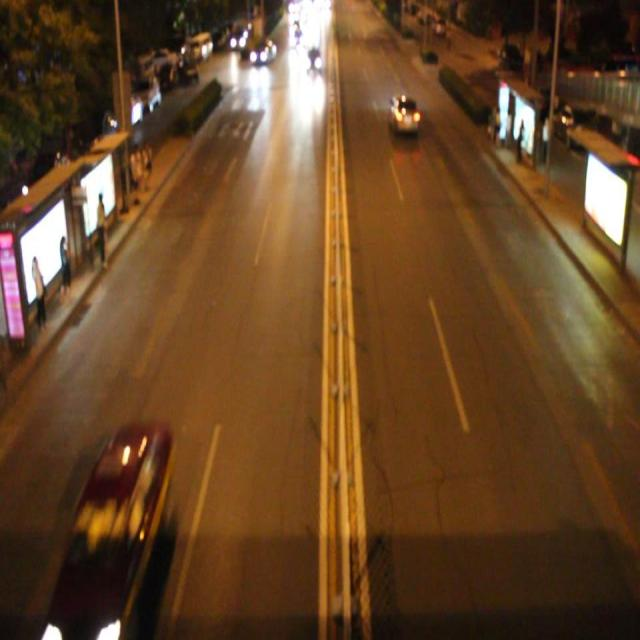car: (49, 426, 171, 640), (388, 91, 420, 135)
